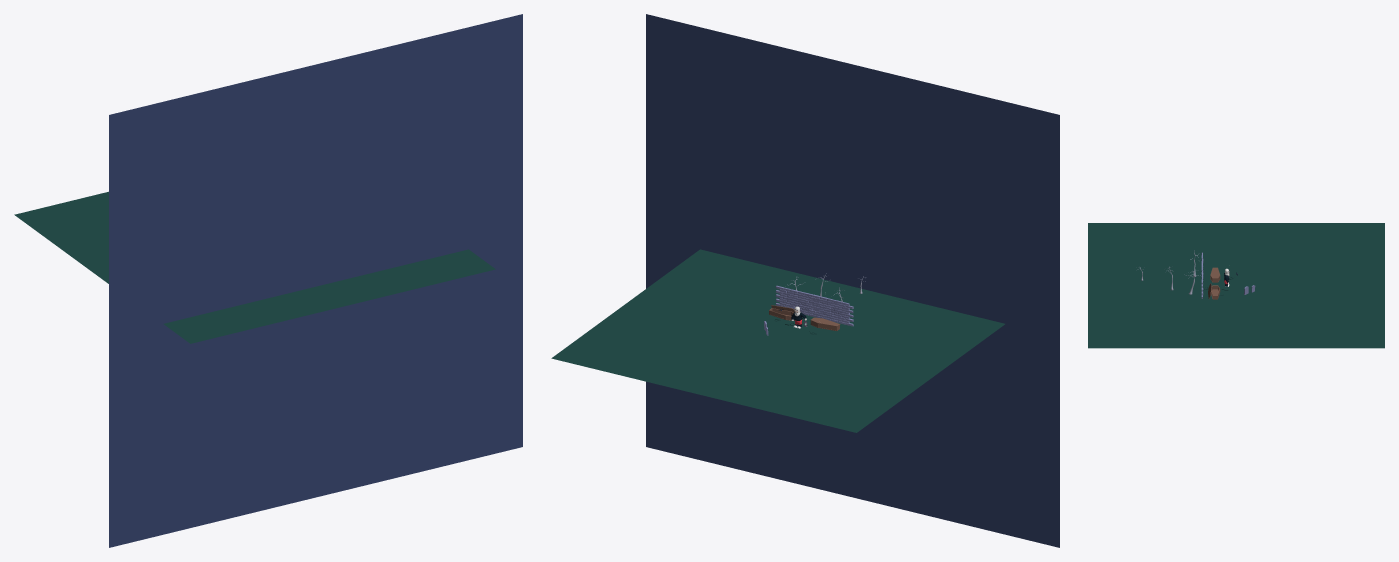
The model's file is afraid_vampire_with_environment.glb.
3 renders of one model, left to right at view 1: azimuth 30°, elevation 25°; view 2: azimuth 150°, elevation 25°; view 3: azimuth 270°, elevation 25°, orthographic. The views are drawn at different scales.
Parts seen in each view (by area): view 1: Plane.003, Plane.002; view 2: Plane.003, Plane.002, Cube; view 3: Plane.002.
Boxes of the visible parts, x1,y1,x2,y2 form: Plane.003: [109, 14, 522, 547]; Plane.002: [14, 191, 495, 343]; Plane.003: [646, 14, 1059, 547]; Plane.002: [551, 249, 1004, 432]; Cube: [775, 285, 853, 326]; Plane.002: [1088, 223, 1384, 348].
Size of the model in its own units: 82.29 by 82.29 by 60.77.
